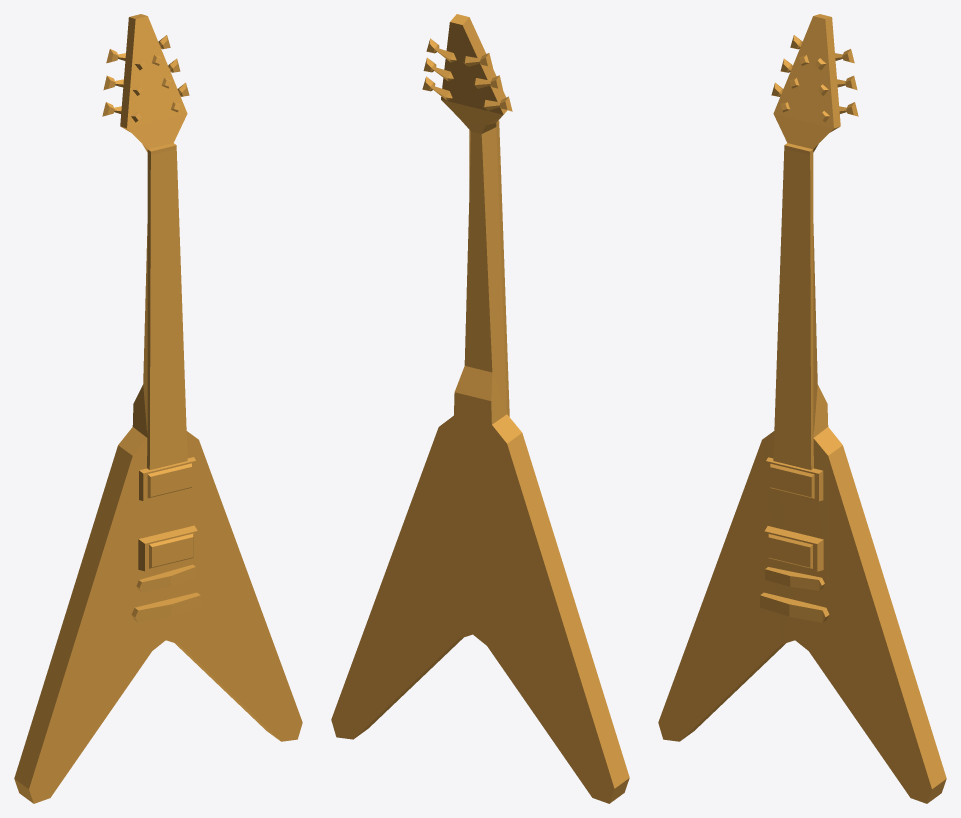
File: guitar-electric-metal.fbx
The picture shows the model from 3 angles, left to right: view 1: azimuth 30°, elevation 25°; view 2: azimuth 150°, elevation 25°; view 3: azimuth 330°, elevation 25°; orthographic projection. The views are drawn at different scales.
Parts seen in each view (by area): view 1: guitar-electric-metal; view 2: guitar-electric-metal; view 3: guitar-electric-metal.
Part boxes in pixels (bbox=[...]): guitar-electric-metal: bbox=[14, 14, 302, 803]; guitar-electric-metal: bbox=[331, 14, 629, 803]; guitar-electric-metal: bbox=[658, 14, 946, 803].
Bounding box in the file's own units: 0.4445 × 1.14 × 0.1043.
